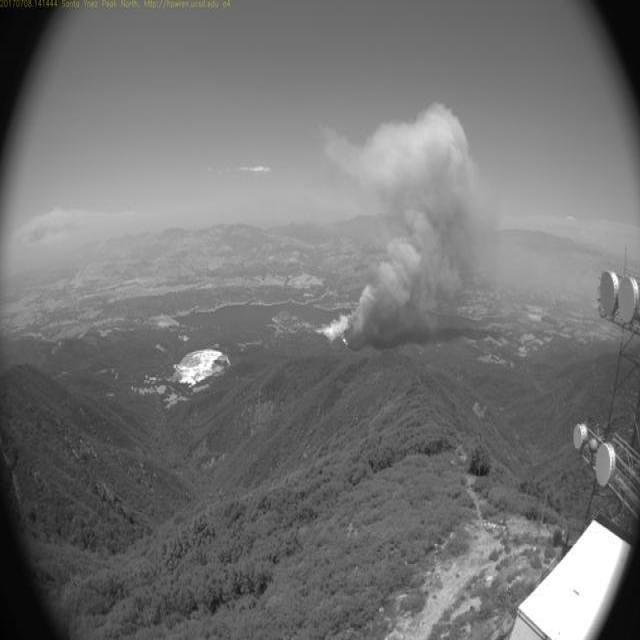Smoke: (318, 104, 478, 348)
